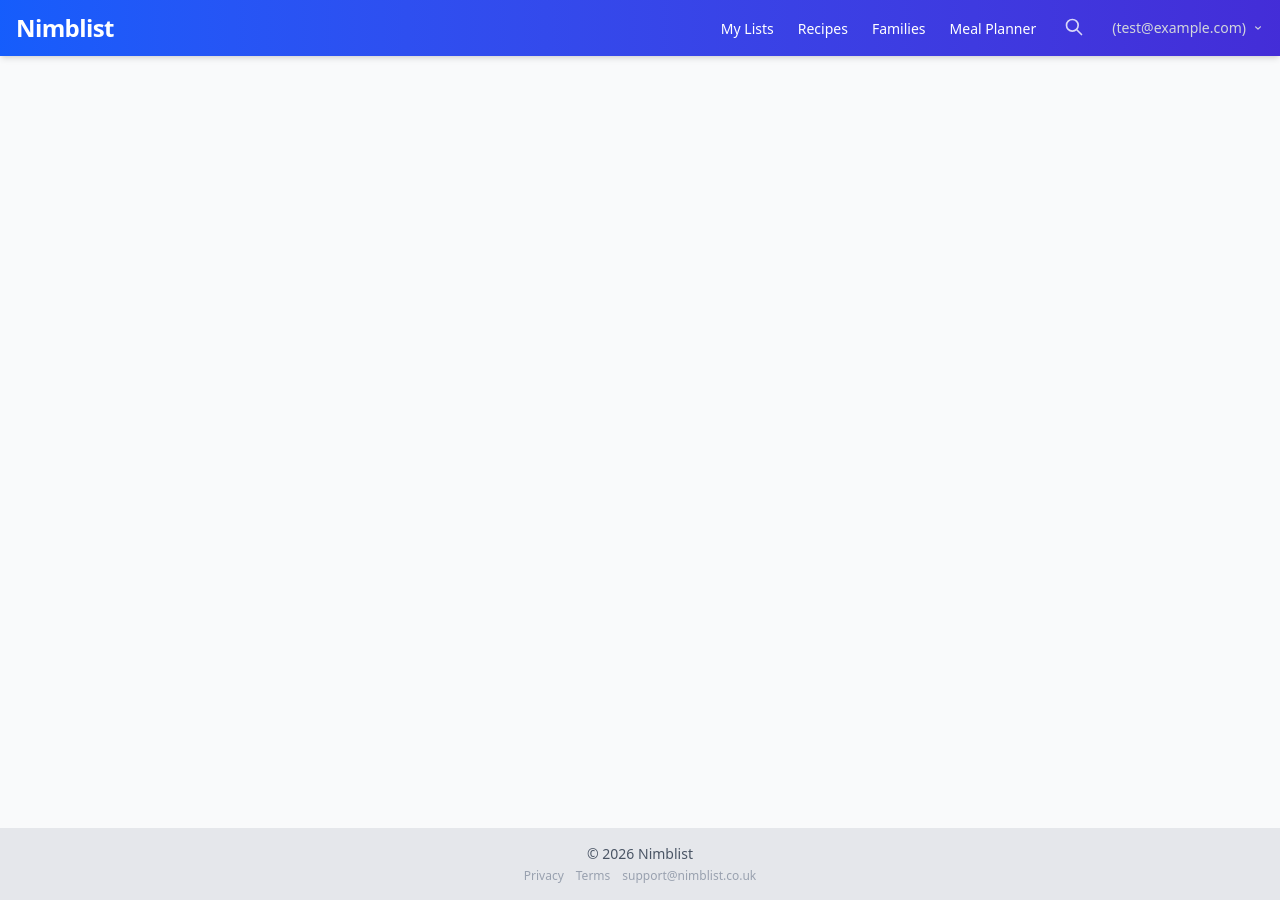
Test case: Layout Component › renders the My Lists link and Logout button when authenticated
Expected: the link "My Lists" is shown, [721,19,774,38]
Note: Logout is inside the user dropdown — open it first
Click the button "(test@example.com)" at (1188, 28), box [1112,18,1264,38]
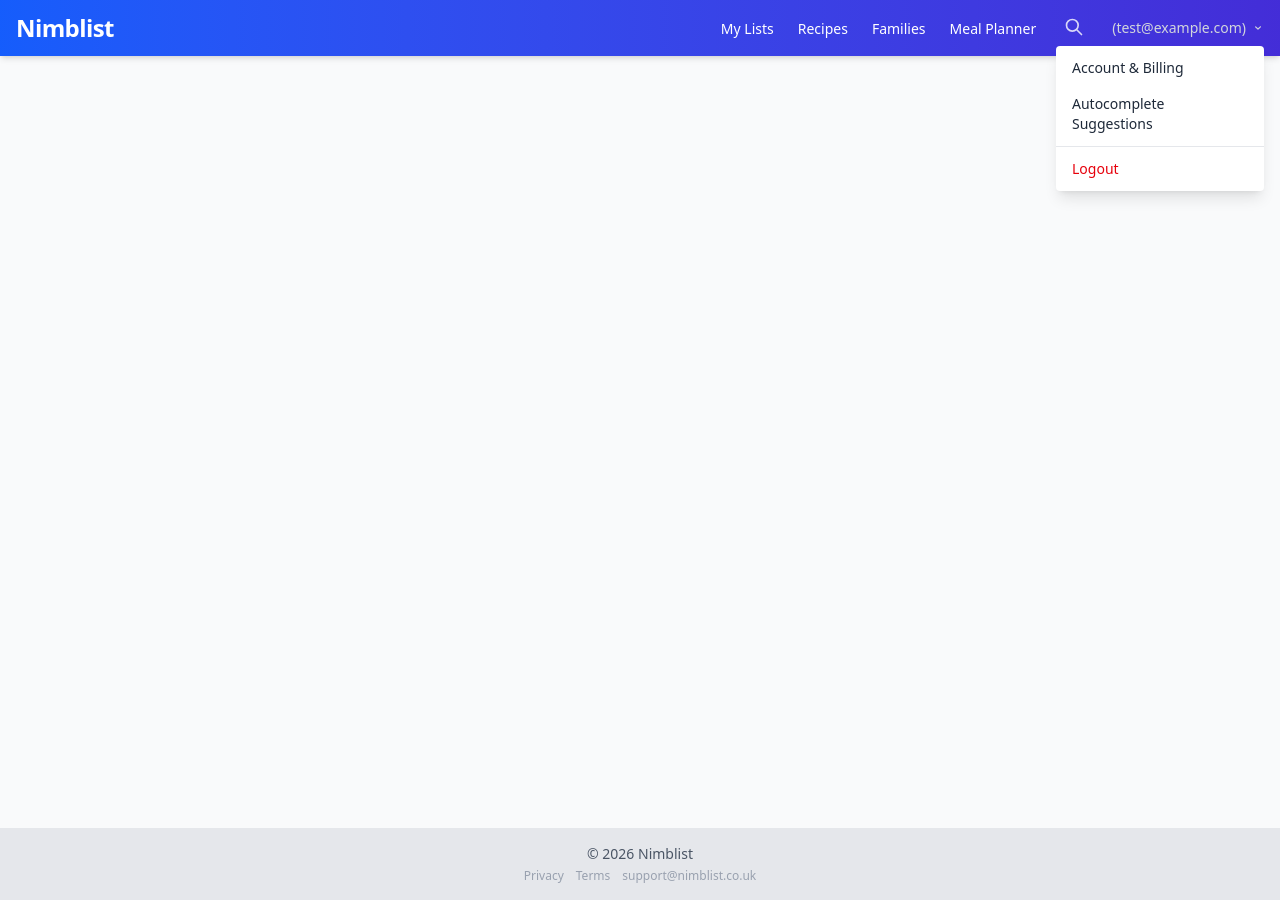
Now the button "Logout" is shown, box [1056,151,1264,187]
